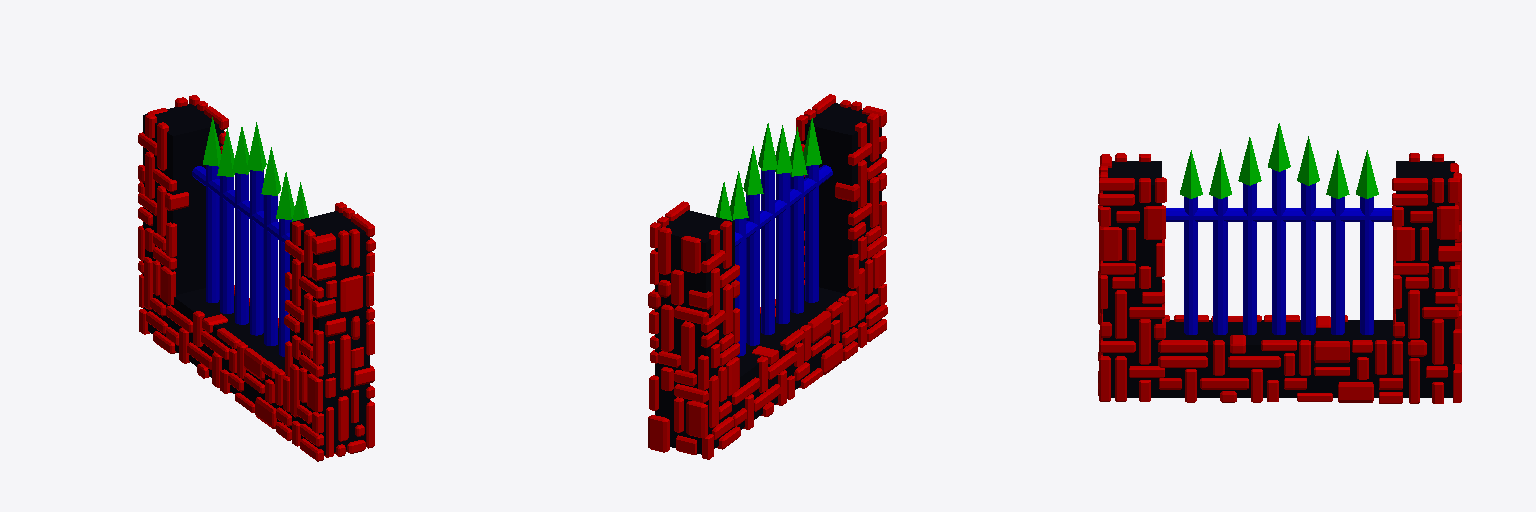
File: fence.obj
3 renders of one model, left to right at view 1: azimuth 30°, elevation 25°; view 2: azimuth 150°, elevation 25°; view 3: azimuth 270°, elevation 25°, orthographic.
Parts seen in each view (by area): view 1: Cube.001_Cube.102, Cube.052, Cube, Cylinder.003, Cylinder.002, Cylinder.004, Cylinder.001, Cylinder, Cylinder.005, Cylinder.007, Cube.178_Cube.180, Cube.173_Cube.175 (+2 smaller); view 2: Cube.052, Cube.001_Cube.102, Cube, Cylinder.003, Cylinder.004, Cylinder.002, Cylinder.005, Cylinder.006, Cylinder.007, Cylinder.001, Cube.156_Cube.158, Cube.161_Cube.163 (+6 smaller); view 3: Cube, Cube.001_Cube.102, Cube.052, Cylinder.007, Cylinder.003, Cylinder.002, Cylinder.004, Cylinder.005, Cylinder.001, Cylinder.006, Cylinder, Cube.010 (+22 smaller).
Boxes of the visible parts, x1,y1,x2,y2 form: Cube.001_Cube.102: [143, 104, 223, 336]; Cube.052: [290, 211, 369, 454]; Cube: [173, 288, 289, 427]; Cylinder.003: [250, 170, 263, 335]; Cylinder.002: [235, 173, 248, 324]; Cylinder.004: [264, 195, 277, 345]; Cylinder.001: [220, 176, 233, 313]; Cylinder: [206, 165, 219, 302]; Cylinder.005: [279, 219, 292, 356]; Cylinder.007: [192, 166, 289, 243]; Cube.178_Cube.180: [340, 275, 362, 311]; Cube.173_Cube.175: [340, 334, 350, 390]; Cube.052: [801, 103, 881, 342]; Cube.001_Cube.102: [655, 210, 734, 454]; Cube: [735, 285, 851, 429]; Cylinder.003: [761, 170, 774, 334]; Cylinder.004: [776, 173, 789, 323]; Cylinder.002: [746, 194, 759, 345]; Cylinder.005: [790, 175, 803, 313]; Cylinder.006: [805, 165, 818, 302]; Cylinder.007: [735, 165, 832, 246]; Cylinder.001: [732, 218, 745, 356]; Cube.156_Cube.158: [686, 401, 707, 437]; Cube.161_Cube.163: [648, 415, 669, 452]; Cube: [1162, 320, 1396, 397]; Cube.001_Cube.102: [1396, 161, 1454, 397]; Cube.052: [1103, 161, 1161, 397]; Cylinder.007: [1166, 208, 1391, 221]; Cylinder.003: [1272, 169, 1285, 334]; Cylinder.002: [1301, 183, 1315, 334]; Cylinder.004: [1243, 183, 1256, 334]; Cylinder.005: [1213, 196, 1227, 334]; Cylinder.001: [1331, 197, 1344, 334]; Cylinder.006: [1184, 197, 1197, 334]; Cylinder: [1360, 197, 1373, 334]; Cube.010: [1314, 341, 1349, 362].
Bounding box in the file's own units: 2.36 × 10.12 × 12.43.